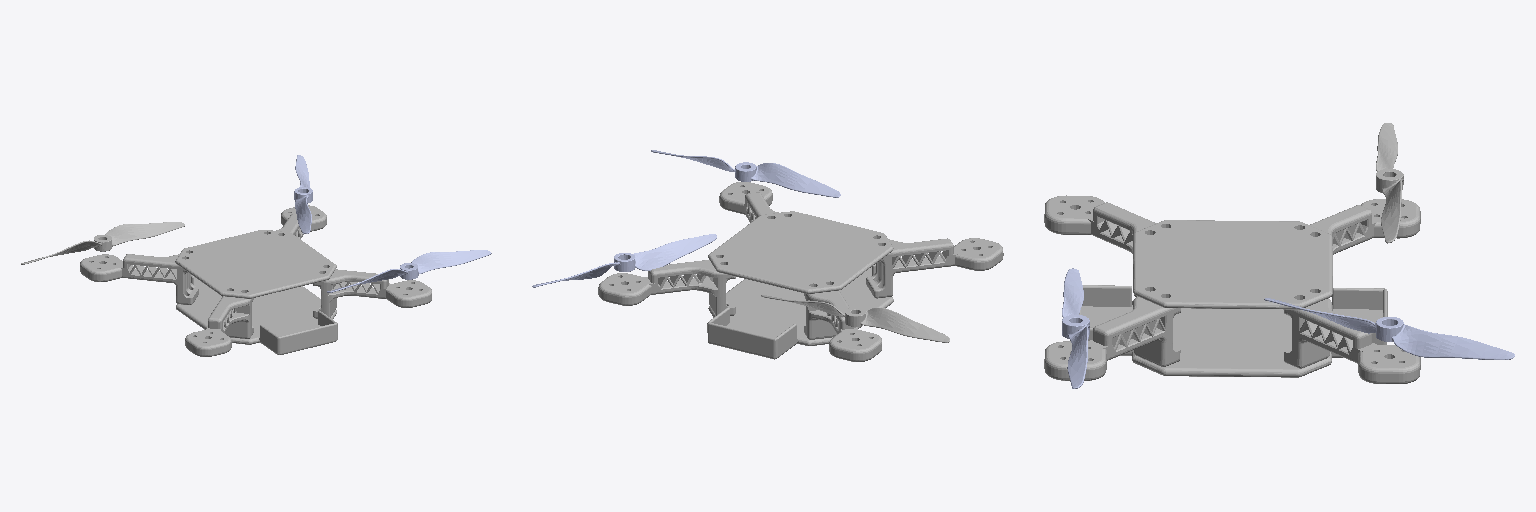
URDF robot description (frame_v2_asm):
<?xml version="1.0" encoding="utf-8"?>
<!-- This URDF was automatically created by SolidWorks to URDF Exporter! Originally created by [author] ([email redacted]) 
     Commit Version: 1.6.0-1-g15f4949  Build Version: 1.6.7594.29634
     For more information, please see http://wiki.ros.org/sw_urdf_exporter -->
<robot
  name="frame_v2_asm">
  <link
    name="base_link">
    <inertial>
      <origin
        xyz="-0.0024512 0.0087826 -0.0086882"
        rpy="0 0 0" />
      <mass
        value="0.1411" />
      <inertia
        ixx="9.5842E-05"
        ixy="5.841E-09"
        ixz="-2.8656E-09"
        iyy="5.8076E-05"
        iyz="1.0736E-06"
        izz="0.00014791" />
    </inertial>
    <visual>
      <origin
        xyz="0 0 0"
        rpy="0 0 0" />
      <geometry>
        <mesh
          filename="package://frame_v2_asm/meshes/base_link.STL" />
      </geometry>
      <material
        name="">
        <color
          rgba="0.75294 0.75294 0.75294 1" />
      </material>
    </visual>
    <collision>
      <origin
        xyz="0 0 0"
        rpy="0 0 0" />
      <geometry>
        <mesh
          filename="package://frame_v2_asm/meshes/base_link.STL" />
      </geometry>
    </collision>
  </link>
  <link
    name="Link_1">
    <inertial>
      <origin
        xyz="3.2072E-07 0.0042783 -1.4373E-07"
        rpy="0 0 0" />
      <mass
        value="0.0017578" />
      <inertia
        ixx="2.4709E-08"
        ixy="-1.4479E-12"
        ixz="4.0373E-08"
        iyy="1.3863E-06"
        iyz="1.1197E-12"
        izz="1.3791E-06" />
    </inertial>
    <visual>
      <origin
        xyz="0 0 0"
        rpy="0 0 0" />
      <geometry>
        <mesh
          filename="package://frame_v2_asm/meshes/Link_1.STL" />
      </geometry>
      <material
        name="">
        <color
          rgba="0.79216 0.81961 0.93333 1" />
      </material>
    </visual>
    <collision>
      <origin
        xyz="0 0 0"
        rpy="0 0 0" />
      <geometry>
        <mesh
          filename="package://frame_v2_asm/meshes/Link_1.STL" />
      </geometry>
    </collision>
  </link>
  <joint
    name="Prop_1"
    type="revolute">
    <origin
      xyz="-0.080221 -0.061832 0.008502"
      rpy="1.5588 0 0" />
    <parent
      link="base_link" />
    <child
      link="Link_1" />
    <axis
      xyz="0 1 0" />
    <limit
      lower="-3.14"
      upper="3.14"
      effort="0"
      velocity="0" />
  </joint>
  <link
    name="Link_2">
    <inertial>
      <origin
        xyz="3.2072E-07 0.0042783 -1.4373E-07"
        rpy="0 0 0" />
      <mass
        value="0.0017578" />
      <inertia
        ixx="2.4709E-08"
        ixy="-1.4479E-12"
        ixz="4.0373E-08"
        iyy="1.3863E-06"
        iyz="1.1197E-12"
        izz="1.3791E-06" />
    </inertial>
    <visual>
      <origin
        xyz="0 0 0"
        rpy="0 0 0" />
      <geometry>
        <mesh
          filename="package://frame_v2_asm/meshes/Link_2.STL" />
      </geometry>
      <material
        name="">
        <color
          rgba="0.79216 0.81961 0.93333 1" />
      </material>
    </visual>
    <collision>
      <origin
        xyz="0 0 0"
        rpy="0 0 0" />
      <geometry>
        <mesh
          filename="package://frame_v2_asm/meshes/Link_2.STL" />
      </geometry>
    </collision>
  </link>
  <joint
    name="Prop_2"
    type="revolute">
    <origin
      xyz="0.075342 -0.061832 0.008502"
      rpy="1.5588 0 0" />
    <parent
      link="base_link" />
    <child
      link="Link_2" />
    <axis
      xyz="0 1 0" />
    <limit
      lower="-3.14"
      upper="3.14"
      effort="0"
      velocity="0" />
  </joint>
  <link
    name="Link_3">
    <inertial>
      <origin
        xyz="2.9874E-07 0.0042783 -1.4713E-07"
        rpy="0 0 0" />
      <mass
        value="0.0017578" />
      <inertia
        ixx="2.4709E-08"
        ixy="-1.4714E-12"
        ixz="4.0373E-08"
        iyy="1.3863E-06"
        iyz="1.1066E-12"
        izz="1.3791E-06" />
    </inertial>
    <visual>
      <origin
        xyz="0 0 0"
        rpy="0 0 0" />
      <geometry>
        <mesh
          filename="package://frame_v2_asm/meshes/Link_3.STL" />
      </geometry>
      <material
        name="">
        <color
          rgba="0.79216 0.81961 0.93333 1" />
      </material>
    </visual>
    <collision>
      <origin
        xyz="0 0 0"
        rpy="0 0 0" />
      <geometry>
        <mesh
          filename="package://frame_v2_asm/meshes/Link_3.STL" />
      </geometry>
    </collision>
  </link>
  <joint
    name="Prop_3"
    type="revolute">
    <origin
      xyz="0.075342 0.079769 0.014502"
      rpy="-1.5653 -0.01064 -2.0478" />
    <parent
      link="base_link" />
    <child
      link="Link_3" />
    <axis
      xyz="0 1 0" />
    <limit
      lower="-3.14"
      upper="3.14"
      effort="0"
      velocity="0" />
  </joint>
  <link
    name="Link_4">
    <inertial>
      <origin
        xyz="-0.0024512 0.0087826 -0.0086882"
        rpy="0 0 0" />
      <mass
        value="0.1411" />
      <inertia
        ixx="9.5842E-05"
        ixy="5.841E-09"
        ixz="-2.8656E-09"
        iyy="5.8076E-05"
        iyz="1.0736E-06"
        izz="0.00014791" />
    </inertial>
    <visual>
      <origin
        xyz="0 0 0"
        rpy="0 0 0" />
      <geometry>
        <mesh
          filename="package://frame_v2_asm/meshes/Link_4.STL" />
      </geometry>
      <material
        name="">
        <color
          rgba="0.75294 0.75294 0.75294 1" />
      </material>
    </visual>
    <collision>
      <origin
        xyz="0 0 0"
        rpy="0 0 0" />
      <geometry>
        <mesh
          filename="package://frame_v2_asm/meshes/Link_4.STL" />
      </geometry>
    </collision>
  </link>
  <joint
    name="Prop_4"
    type="revolute">
    <origin
      xyz="-0.080221 0.079578 0.008502"
      rpy="1.5828 4.3744E-05 3.1379" />
    <parent
      link="base_link" />
    <child
      link="Link_4" />
    <axis
      xyz="0 1 0" />
    <limit
      lower="-3.14"
      upper="3.14"
      effort="0"
      velocity="0" />
  </joint>
</robot>

--- Render facts (derived) ---
The picture shows the robot from 3 angles, left to right: view 1: azimuth 30°, elevation 25°; view 2: azimuth 150°, elevation 25°; view 3: azimuth 270°, elevation 25°; orthographic projection.
Robot: frame_v2_asm — 5 links, 4 joints (4 revolute); root link base_link; default pose: every joint at zero.
Links seen in each view (by area): view 1: base_link, Link_2, Link_4, Link_3; view 2: base_link, Link_2, Link_4, Link_3; view 3: base_link, Link_3, Link_2, Link_4.
Link boxes in pixels (x1=…): base_link: x1=80, y1=205, x2=431, y2=356; Link_2: x1=327, y1=250, x2=491, y2=292; Link_4: x1=21, y1=222, x2=184, y2=264; Link_3: x1=294, y1=155, x2=312, y2=233; base_link: x1=598, y1=182, x2=1003, y2=361; Link_2: x1=651, y1=150, x2=840, y2=197; Link_4: x1=761, y1=295, x2=949, y2=342; Link_3: x1=532, y1=234, x2=716, y2=287; base_link: x1=1044, y1=195, x2=1420, y2=383; Link_3: x1=1264, y1=298, x2=1514, y2=359; Link_2: x1=1062, y1=268, x2=1089, y2=388; Link_4: x1=1376, y1=123, x2=1403, y2=243.
Size in the robot's own frame: 0.2826 by 0.2122 by 0.049 metres.
Meshes: 5 distinct files referenced, 4 mesh visuals loaded (4 binary STL); not drawn: 1 (reference not matched to a file when rendering).